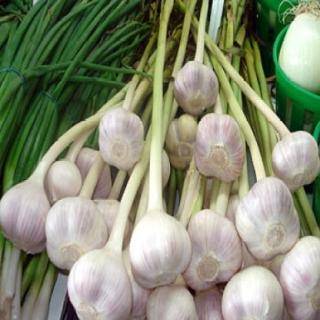Bawang Putih: (236, 177, 301, 261), (129, 208, 193, 289), (68, 247, 133, 320), (195, 113, 245, 184), (98, 107, 146, 171)
